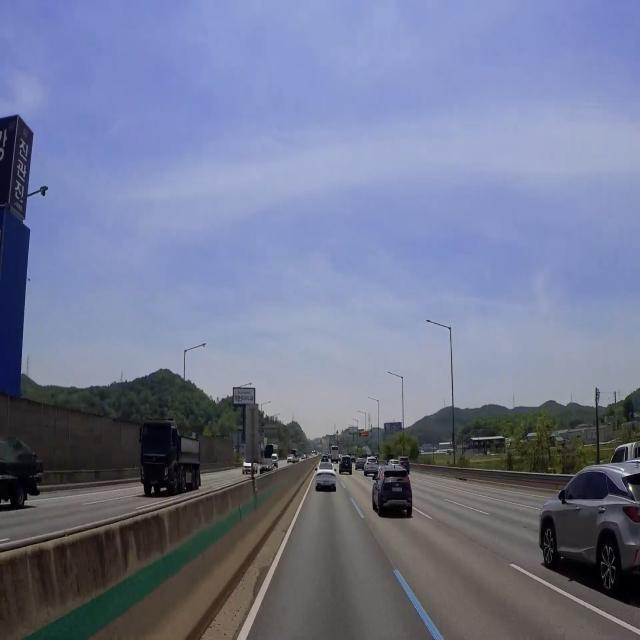car: (390, 483, 405, 498), (320, 477, 335, 491)
